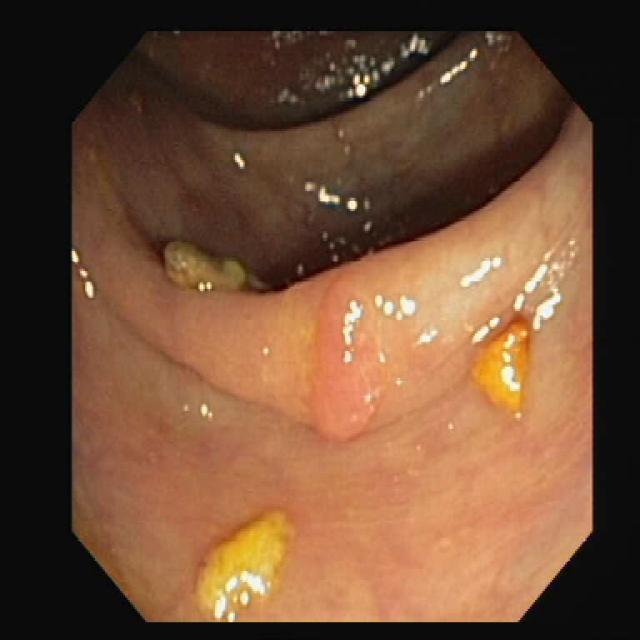tumor: (307, 267, 390, 438)
